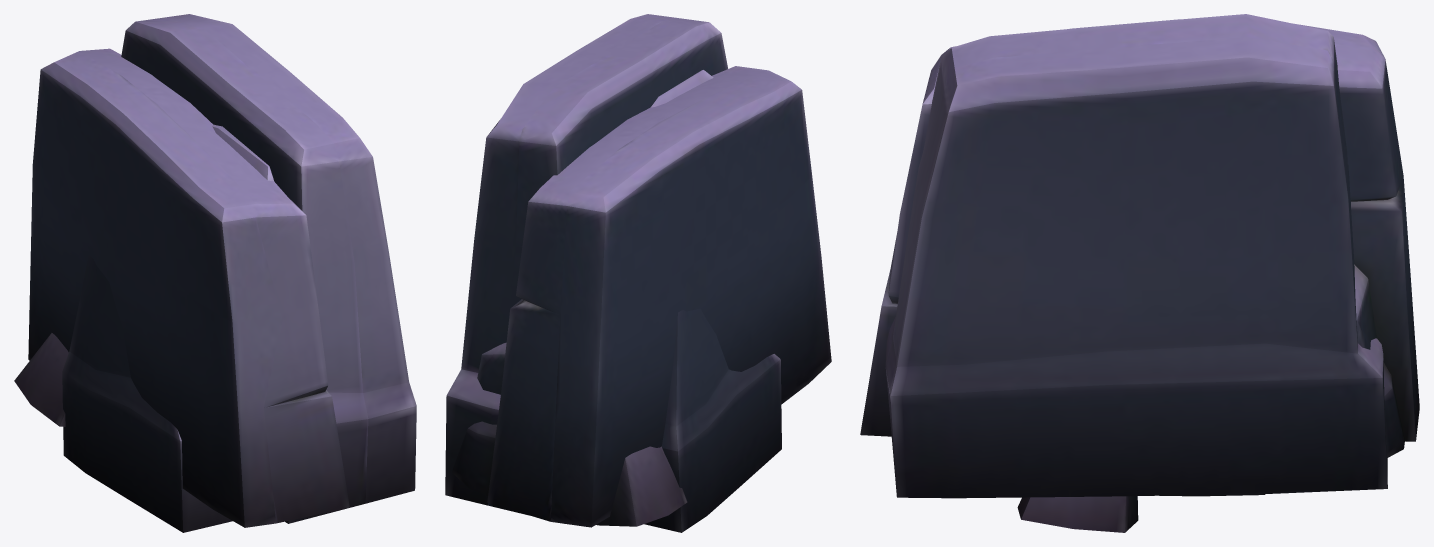
File: stg3_wallrun.gltf
3 views of the same model, side by side, from view 1: azimuth 30°, elevation 25°; view 2: azimuth 150°, elevation 25°; view 3: azimuth 270°, elevation 25° (orthographic). The views are drawn at different scales.
Visible parts, largest first — view 1: wall_lf_GEO1:PIV, wall_rt_GEO:PIV, wall_lf_GEO:PIV, wall_rt_GEO1:PIV; view 2: wall_lf_GEO1:PIV, wall_rt_GEO:PIV, wall_lf_GEO:PIV, wall_rt_GEO1:PIV; view 3: wall_rt_GEO:PIV, wall_lf_GEO1:PIV, wall_lf_GEO:PIV.
Part boxes in pixels (bbox=[...]): wall_lf_GEO1:PIV: bbox=[28, 48, 349, 527]; wall_rt_GEO:PIV: bbox=[14, 14, 416, 523]; wall_lf_GEO:PIV: bbox=[62, 255, 232, 532]; wall_rt_GEO1:PIV: bbox=[212, 124, 273, 181]; wall_lf_GEO1:PIV: bbox=[452, 66, 831, 527]; wall_rt_GEO:PIV: bbox=[445, 14, 727, 526]; wall_lf_GEO:PIV: bbox=[644, 308, 781, 532]; wall_rt_GEO1:PIV: bbox=[650, 70, 713, 107]; wall_rt_GEO:PIV: bbox=[885, 14, 1387, 498]; wall_lf_GEO1:PIV: bbox=[860, 19, 1419, 457]; wall_lf_GEO:PIV: bbox=[1017, 494, 1265, 532].
Size of the model in its own units: 1455 by 2809 by 2963.
1 material, 1 textured.
